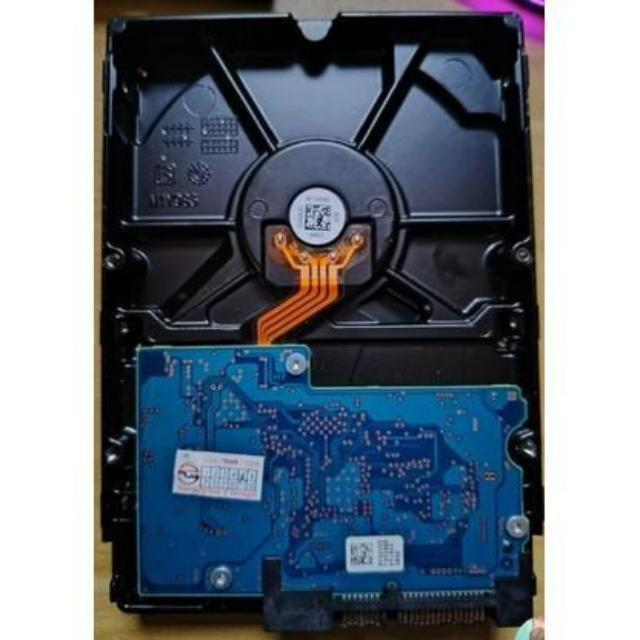DISK: (105, 7, 540, 633)
